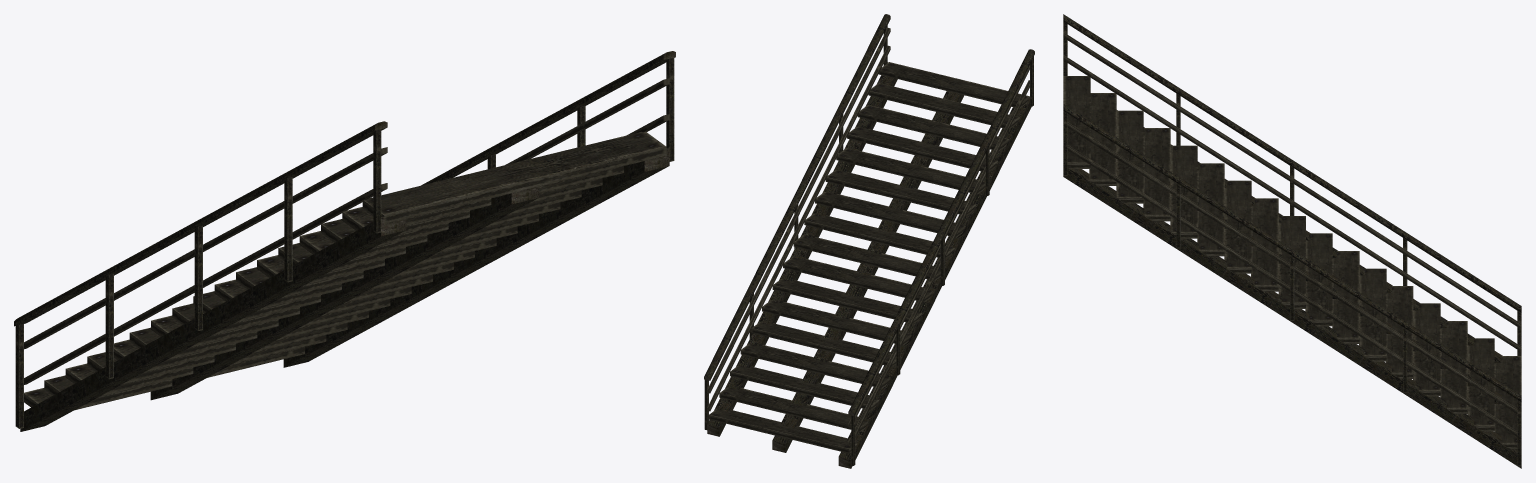
File: wood_cellar01.DAE
3 views of the same model, side by side, from view 1: azimuth 30°, elevation 25°; view 2: azimuth 150°, elevation 25°; view 3: azimuth 270°, elevation 25° (orthographic). The views are drawn at different scales.
Visible parts, largest first — view 1: Box014, Box015; view 2: Box014, Box015; view 3: Box014, Box015.
Part boxes in pixels (<box>): Box014: <box>15,57,674,428</box>; Box015: <box>14,51,675,431</box>; Box014: <box>704,25,1033,465</box>; Box015: <box>704,14,1034,468</box>; Box014: <box>1063,21,1521,465</box>; Box015: <box>1063,14,1521,468</box>.
Bounding box in the file's own units: 4.2 × 7.67 × 8.74.
